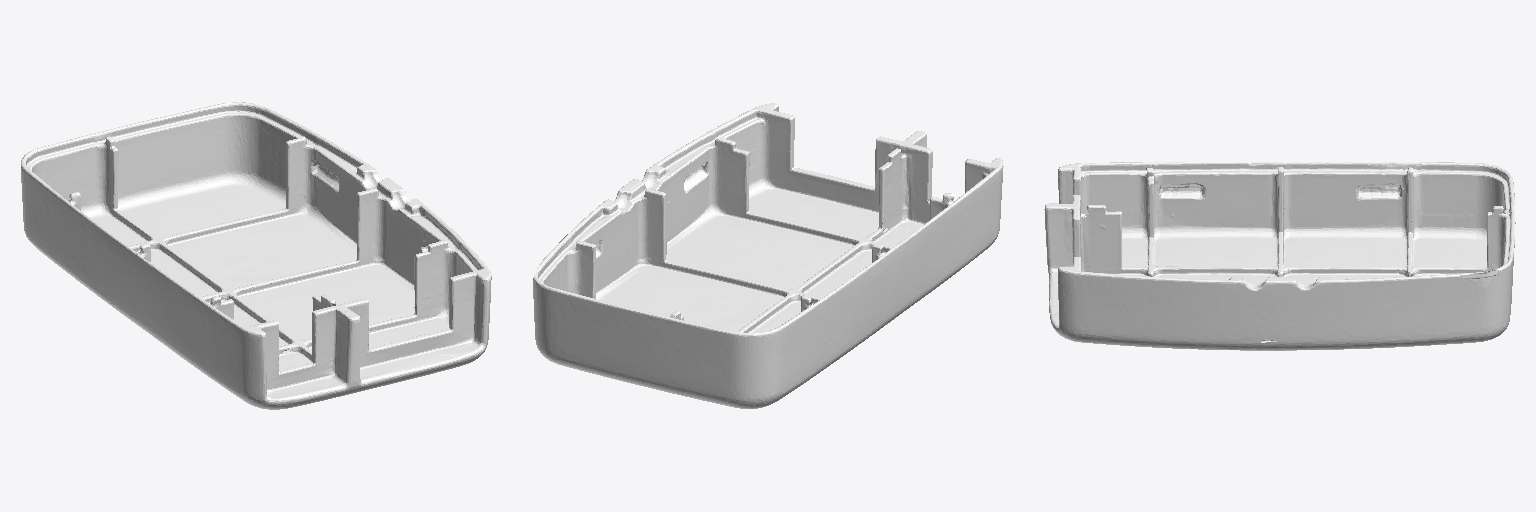
URDF robot description (snap_female):
<?xml version="1.0"?>
<robot
  name="snap_female">
  <link
    name="female_snap">
    <inertial>
      <origin
        xyz="1.7185E-17 -2.0817E-17 -0.012891"
        rpy="0 0 0" />
      <mass
        value="0.0104" />
      <inertia
        ixx="8.7571E-06"
        ixy="3.4415E-21"
        ixz="3.7423E-21"
        iyy="3.844E-06"
        iyz="-5.4697E-22"
        izz="1.1888E-05" />
    </inertial>
    <visual>
      <origin
        xyz="0 0 0"
        rpy="0 0 0" />
      <geometry>
        <mesh
          filename="package://birl_baxter_description/urdf/snap/snap_female/meshes/female_snap.STL" />
      </geometry>
      <material
        name="">
        <color
          rgba="1 1 1 1" />
      </material>
    </visual>
    <collision>
      <origin
        xyz="0 0 0"
        rpy="0 0 0" />
      <geometry>
        <mesh
          filename="package://birl_baxter_description/urdf/snap/snap_female/meshes/female_snap.STL" />
      </geometry>
    </collision>
  </link>
   <gazebo reference="female_snap">
     <self_collide>1</self_collide>
     <mu1>1000</mu1>
     <mu2>1000</mu2>
     <fdir1>0.0 0.0 1.0</fdir1>
     <kp>1e5</kp>
     <kd>1.0</kd>
     <material>Gazebo/Turquoise</material>
   </gazebo>
</robot>

--- Render facts (derived) ---
3 views of the same robot in one strip: view 1: azimuth 30°, elevation 25°; view 2: azimuth 150°, elevation 25°; view 3: azimuth 270°, elevation 25° (orthographic).
Model snap_female with 1 links and 0 joints (none), rooted at female_snap, posed every joint at zero.
Links seen in each view (by area): view 1: female_snap; view 2: female_snap; view 3: female_snap.
Link boxes in pixels (box(x1,y1,x2,y2)): female_snap: box(21, 102, 491, 409); female_snap: box(533, 103, 1003, 408); female_snap: box(1044, 161, 1515, 350).
Bounding box of the posed robot: 0.0451 × 0.0744 × 0.0142 m (x, y, z).
Meshes: 1 distinct files referenced, 1 mesh visuals loaded (1 binary STL).
